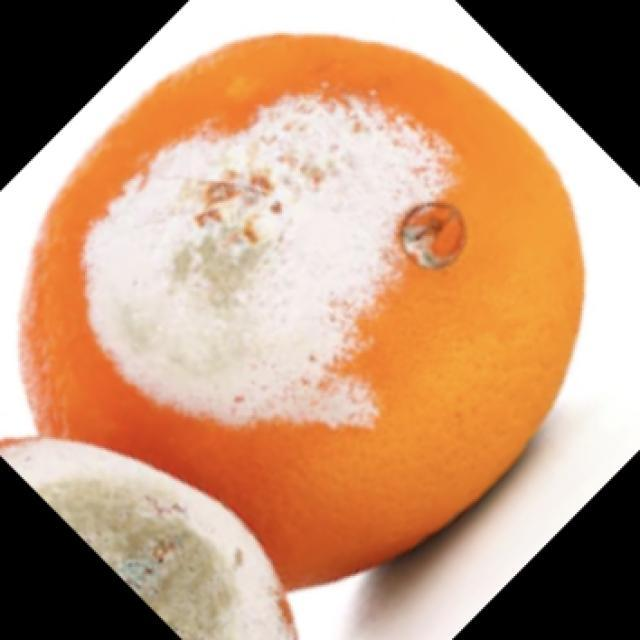sangat-busuk: (0, 437, 297, 639)
sedikit-busuk: (24, 35, 582, 588)
